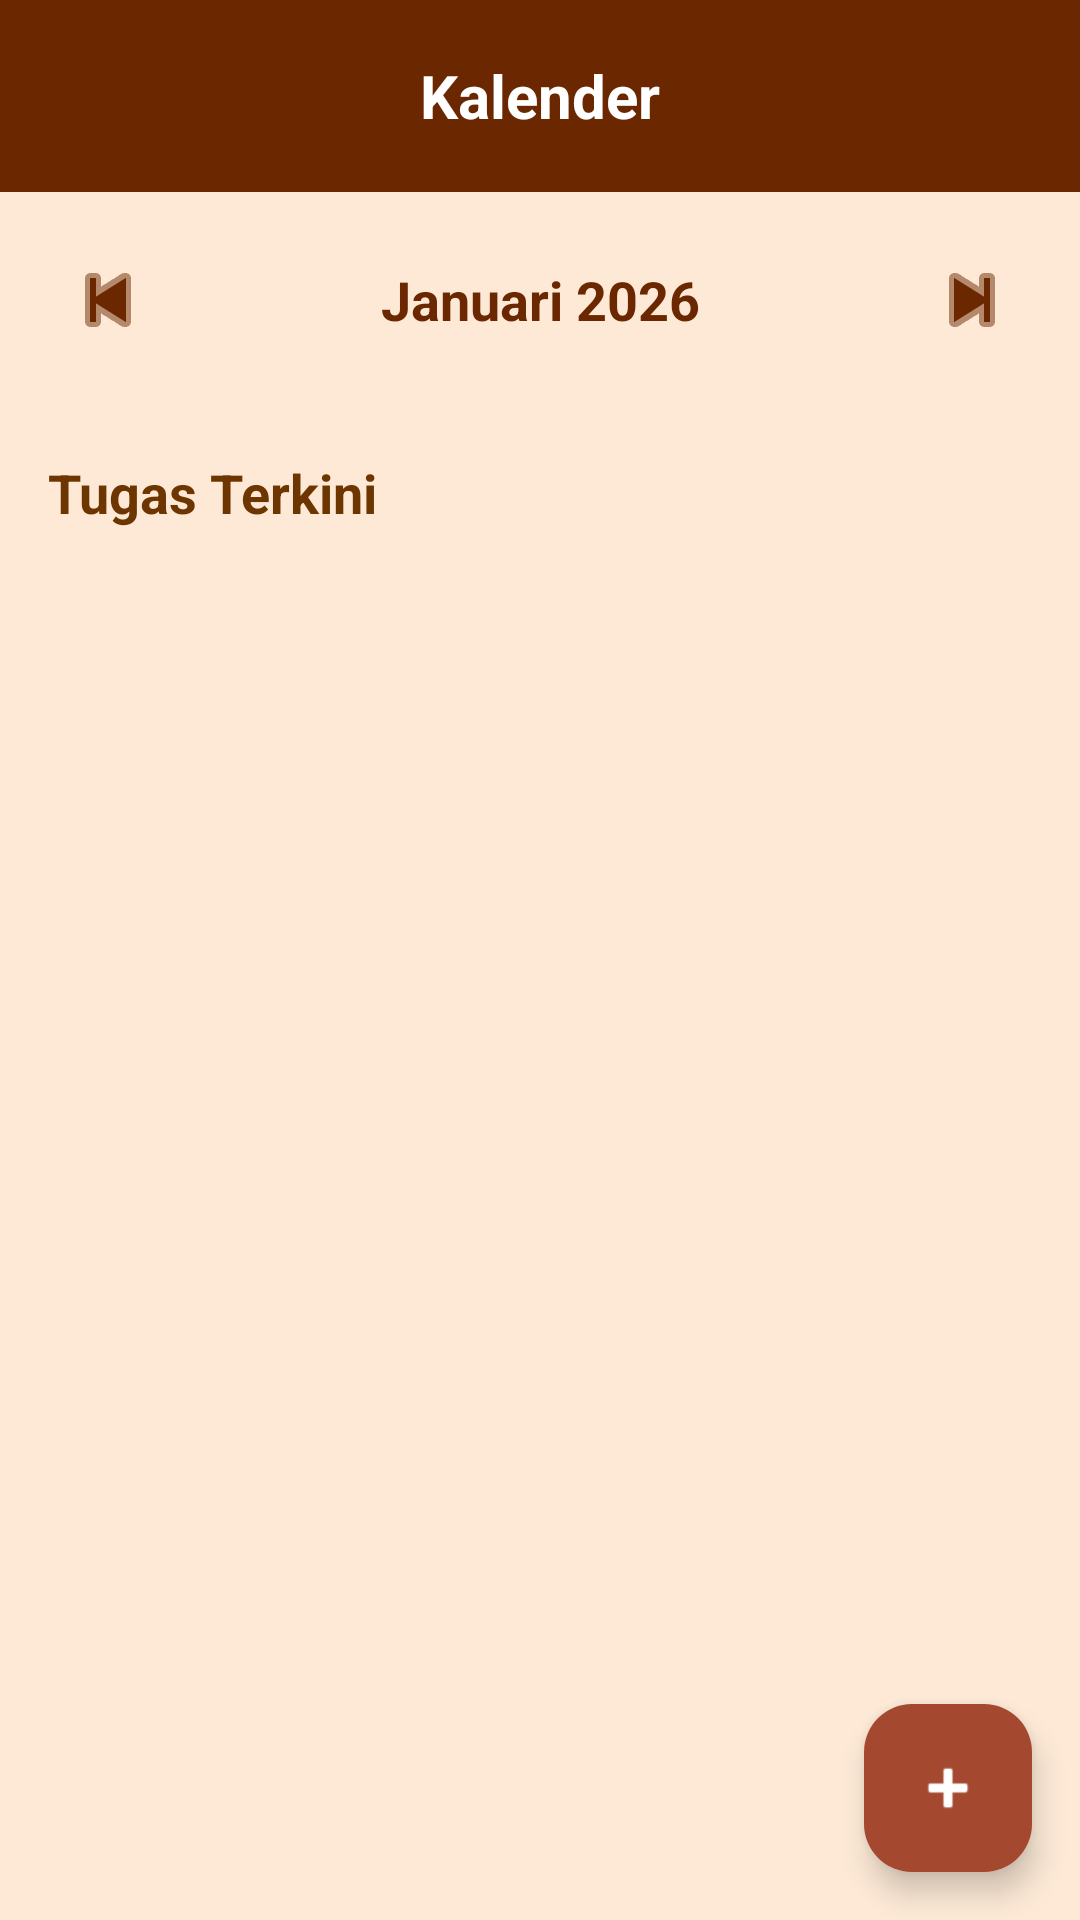

Screen size 1080 × 1920. Icon name, then its center in pixels as (x=x, y=y):
add: (x=948, y=1788)
next: (x=972, y=300)
previous: (x=108, y=300)
